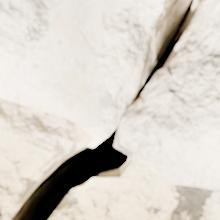broken_brick: (0, 0, 165, 139), (120, 0, 219, 191)
crack: (1, 0, 218, 219), (23, 104, 53, 115)
